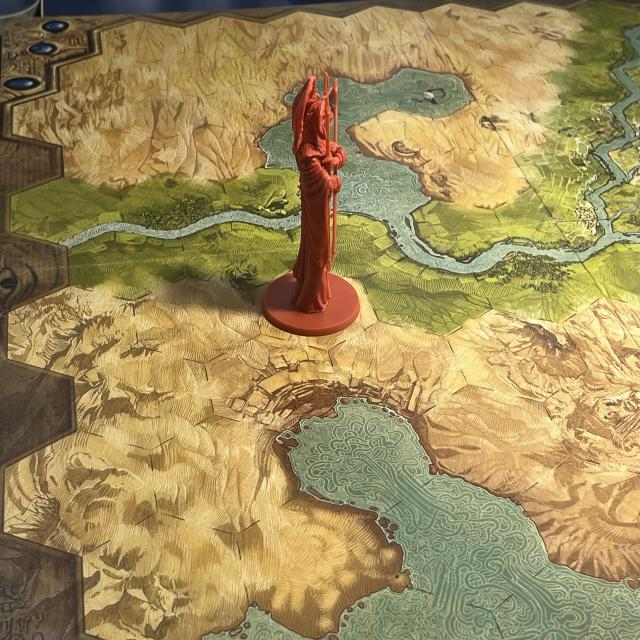amon: (244, 57, 373, 337)
